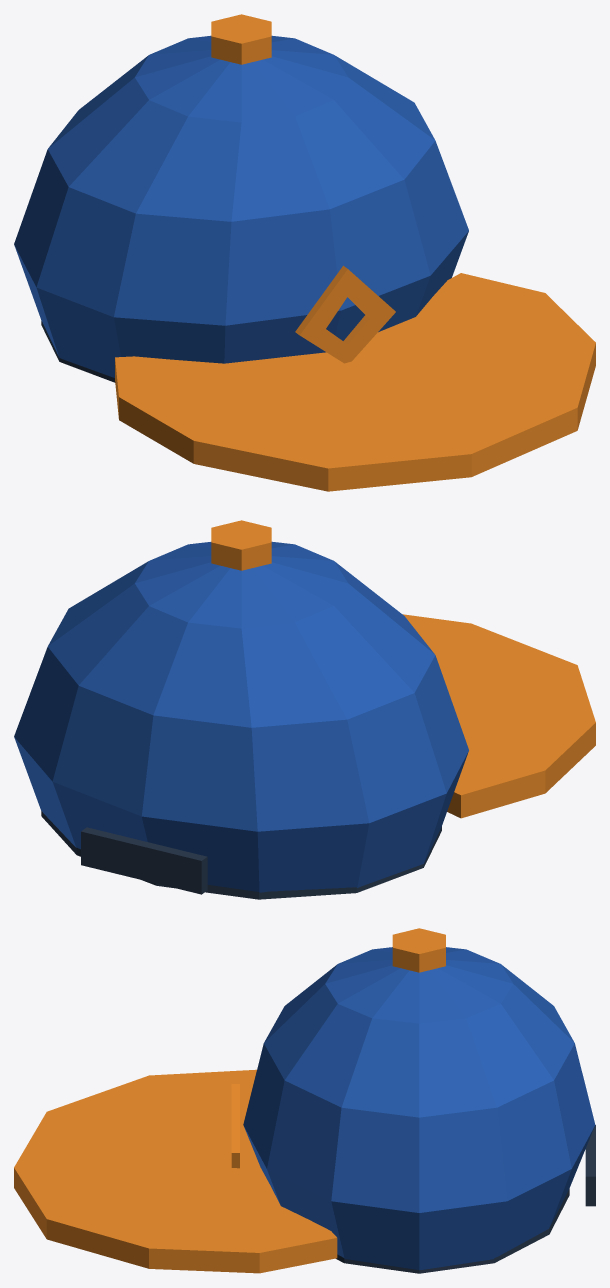
The picture shows the model from 3 angles, top to bottom: view 1: azimuth 30°, elevation 25°; view 2: azimuth 150°, elevation 25°; view 3: azimuth 270°, elevation 25°; orthographic projection. The views are drawn at different scales.
Parts seen in each view (by area): view 1: Copa do boné, Aba angular, Emblema frontal, Botão superior; view 2: Copa do boné, Aba angular, Fecho posterior, Botão superior, Faixa interna; view 3: Copa do boné, Aba angular, Botão superior, Faixa interna, Fecho posterior, Emblema frontal.
Boxes of the visible parts, x1,y1,x2,y2 form: Copa do boné: [14, 35, 468, 377]; Aba angular: [115, 273, 595, 491]; Emblema frontal: [295, 265, 395, 363]; Botão superior: [211, 14, 271, 64]; Copa do boné: [14, 541, 468, 892]; Aba angular: [403, 614, 595, 818]; Fecho posterior: [81, 827, 207, 894]; Botão superior: [211, 520, 271, 570]; Faixa interna: [41, 811, 441, 899]; Copa do boné: [243, 947, 595, 1270]; Aba angular: [14, 1069, 337, 1273]; Botão superior: [392, 928, 445, 972]; Faixa interna: [336, 1189, 569, 1273]; Fecho posterior: [585, 1125, 595, 1206]; Emblema frontal: [231, 1084, 239, 1168].
Bounding box in the file's own units: 1.06 × 0.685 × 1.42.
